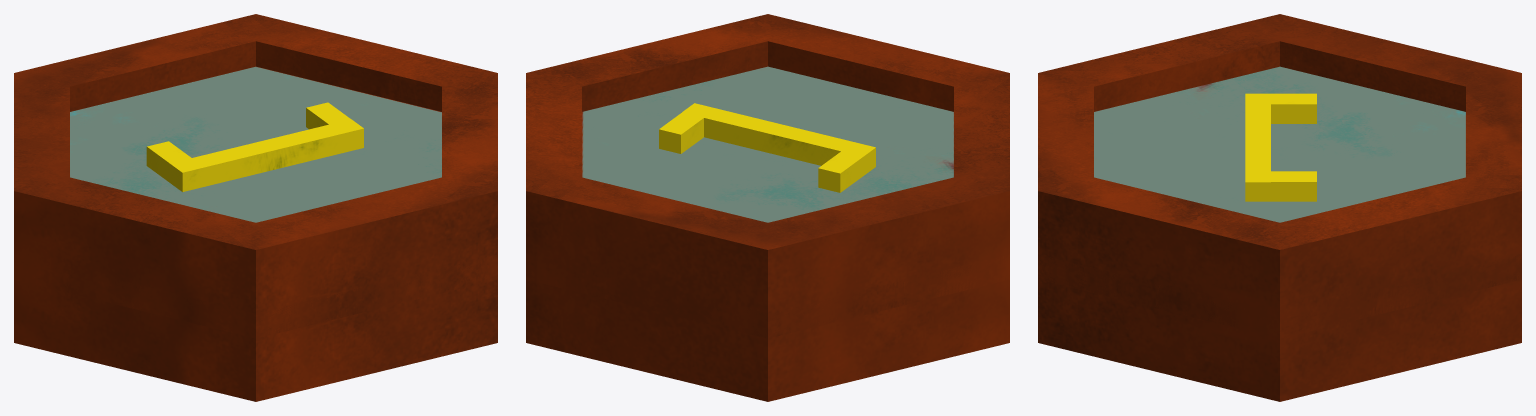
Rendered from Magnet.FBX.
3 renders of one model, left to right at view 1: azimuth 30°, elevation 25°; view 2: azimuth 150°, elevation 25°; view 3: azimuth 270°, elevation 25°, orthographic.
Parts seen in each view (by area): view 1: Cylinder019; view 2: Cylinder019; view 3: Cylinder019.
Part boxes in pixels (box(x1,y1,x2,y2)): Cylinder019: box(14, 14, 497, 401); Cylinder019: box(526, 14, 1009, 401); Cylinder019: box(1038, 14, 1521, 401).
Size of the model in its own units: 20 by 17.32 by 6.
